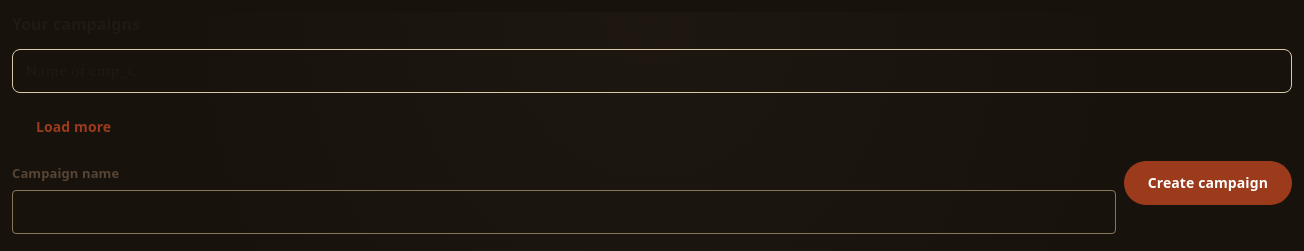
Test: the picker states (§12.2, T2-8, T2-9) › a Load more that fails says so in visible text, keeps the list and keeps Load more focused (D-5)
What coordinates should you click on to do the following:
click the button "Load more"
I would click on:
 (74, 127)
Its box is [12,105,135,149].
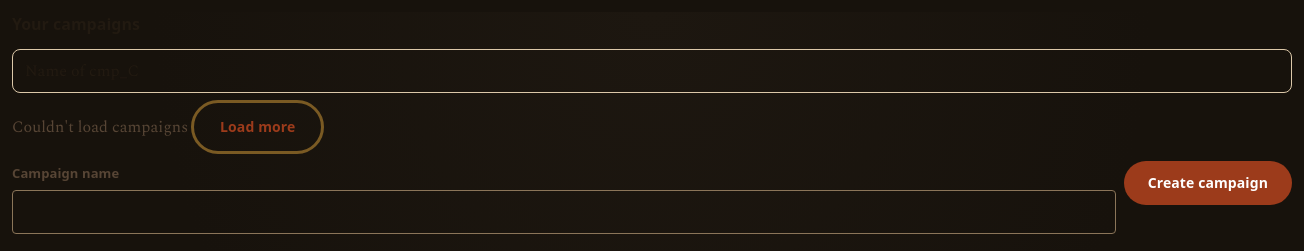
Expected: the text "Couldn't load campaigns" is shown, [12,114,188,140]
